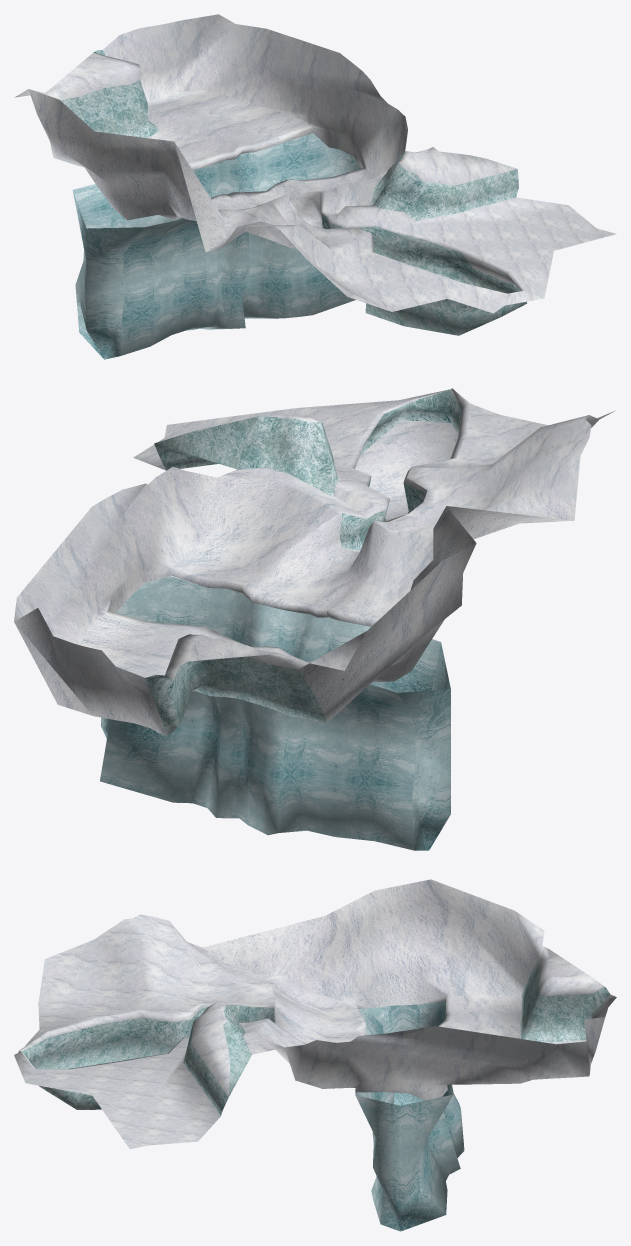
Rendered from CrevasseLevel.fbx.
The picture shows the model from 3 angles, top to bottom: view 1: azimuth 30°, elevation 25°; view 2: azimuth 150°, elevation 25°; view 3: azimuth 270°, elevation 25°; orthographic projection. The views are drawn at different scales.
Visible parts, largest first — view 1: Soil, Crevasse; view 2: Soil, Crevasse; view 3: Soil, Crevasse.
Boxes of the visible parts, x1,y1,x2,y2 form: Soil: (14, 14, 616, 335); Crevasse: (72, 133, 360, 359); Soil: (14, 388, 615, 735); Crevasse: (100, 576, 450, 850); Soil: (14, 879, 616, 1149); Crevasse: (355, 1001, 464, 1231).
Size of the model in its own units: 6644 by 4168 by 9820.
